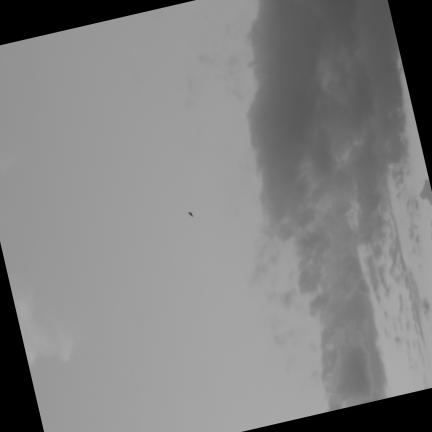Shahed: (188, 210, 194, 217)
